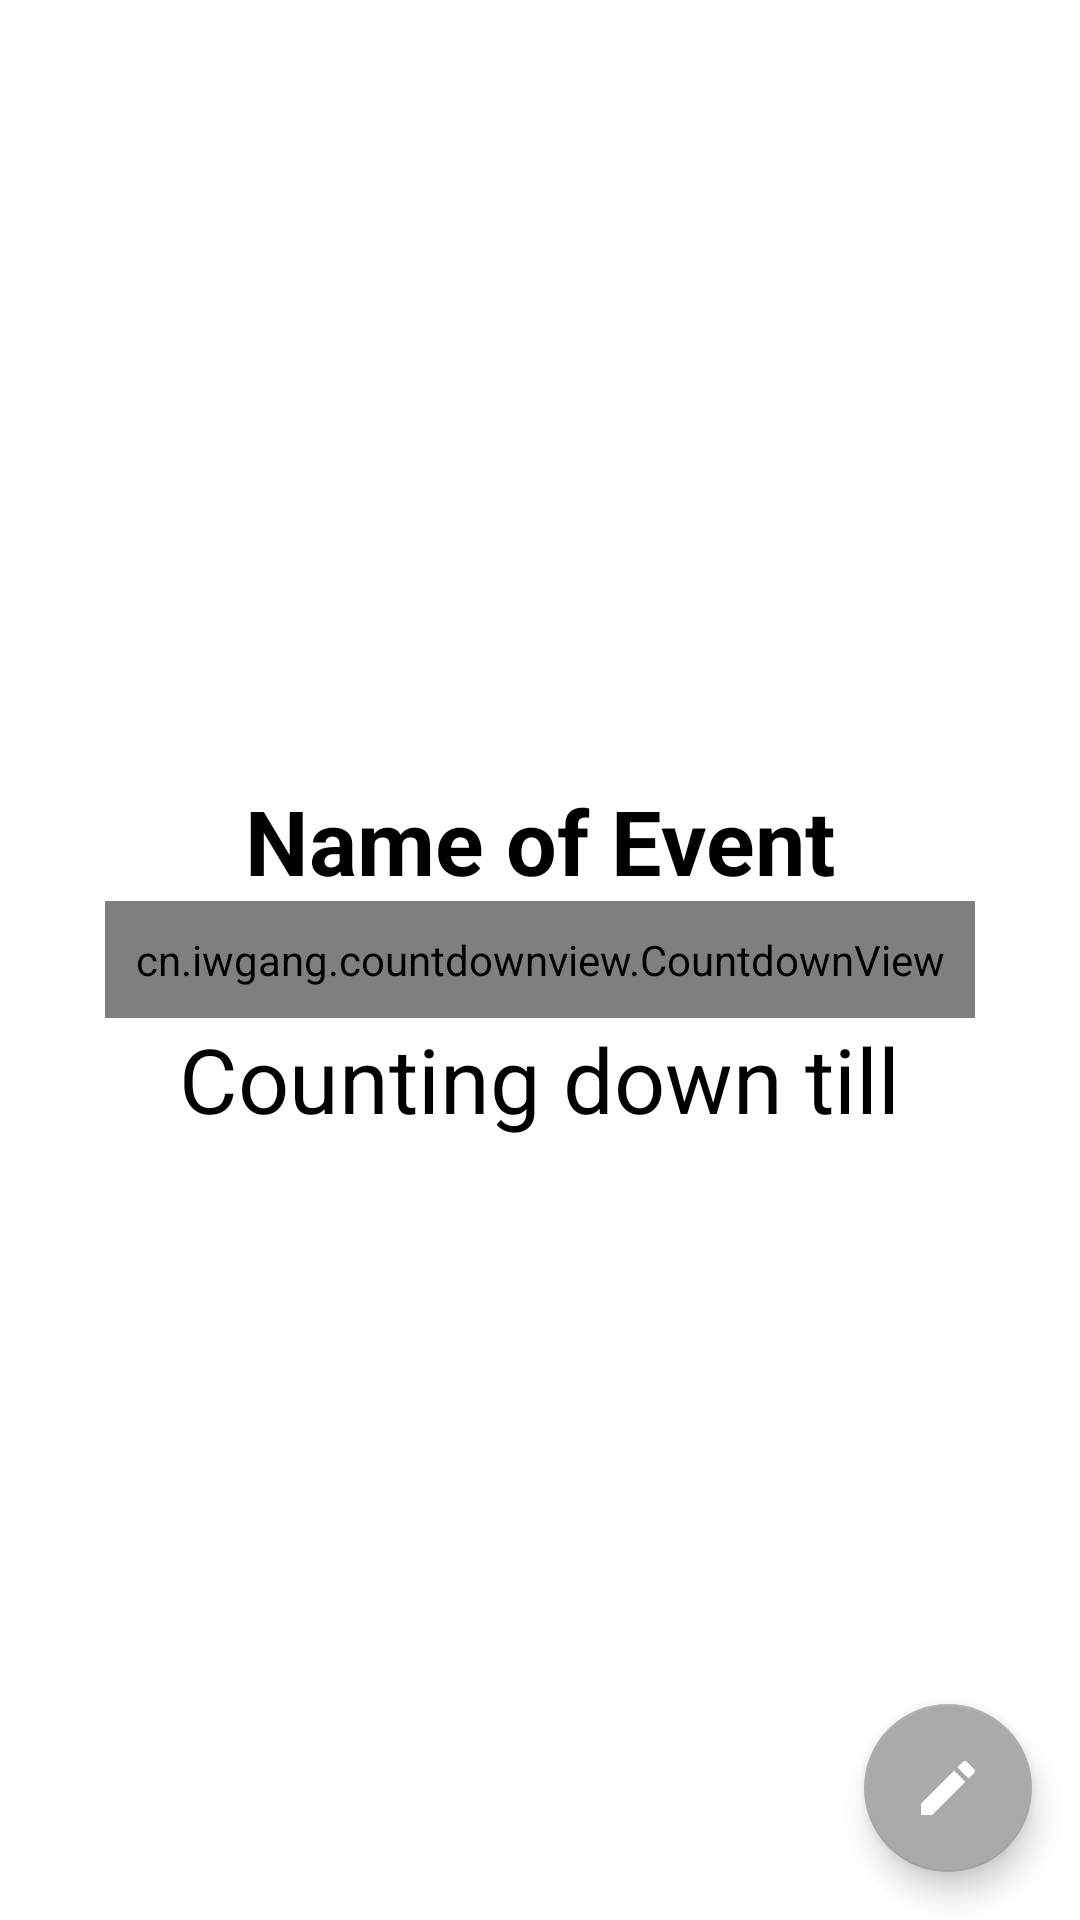

Screen size 1080x1920. Icon name, then its box in pixels as box=[x1, y1, x2, y2]:
Edit countdown timer: box=[864, 1704, 1032, 1872]
